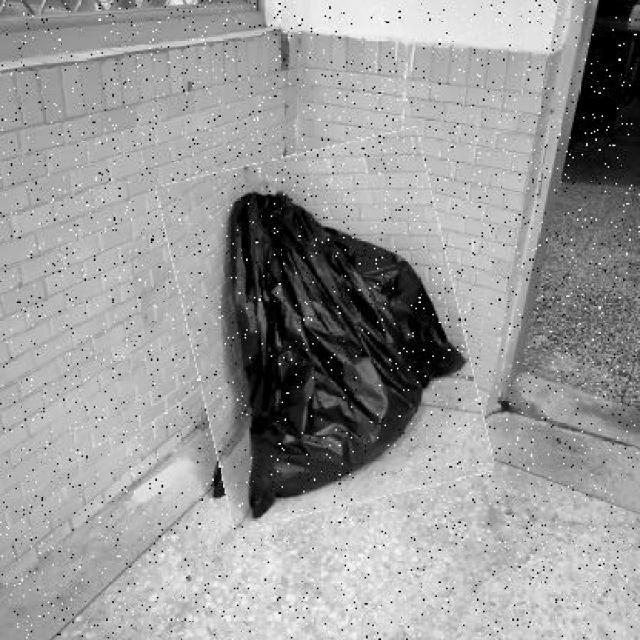waste: (175, 140, 478, 517)
